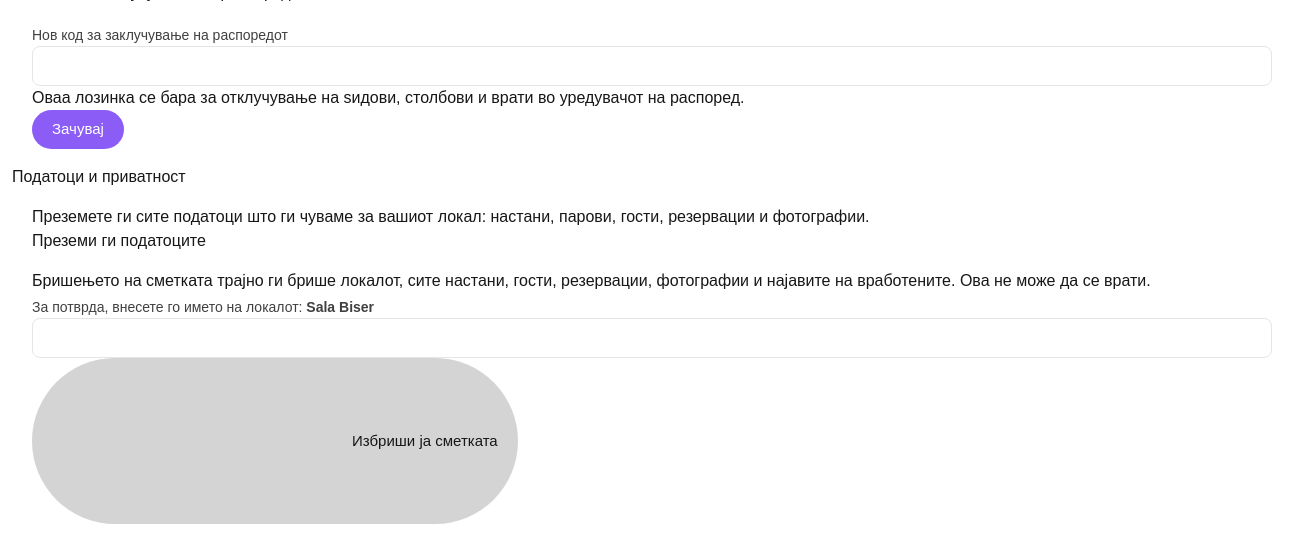
Test: Settings: delete account (DATA-006) › shows the server's error and stays on the page when deletion fails
The image size is (1292, 549).
(page scrolled)
Step 1. Type "Sala Biser" into the field labelled "За потврда, внесете го името на локалот: Sala Biser" → {"x": 652, "y": 338}, box 32,318 -> 1272,358
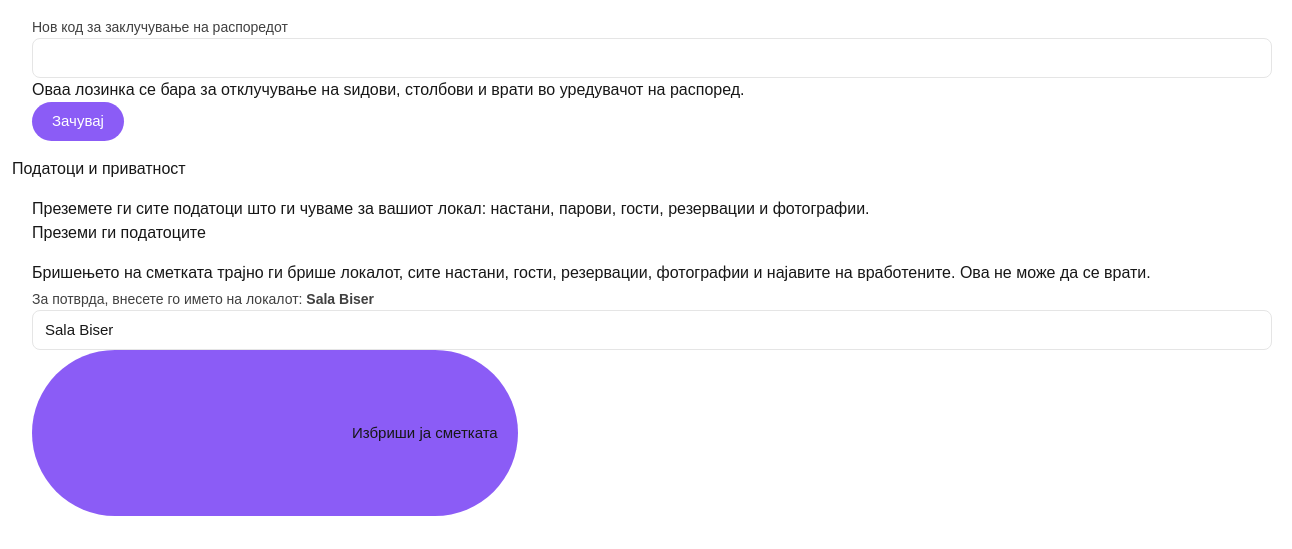
Step 2. Click the button "Избриши ја сметката" → {"x": 275, "y": 433}, box 32,350 -> 518,516
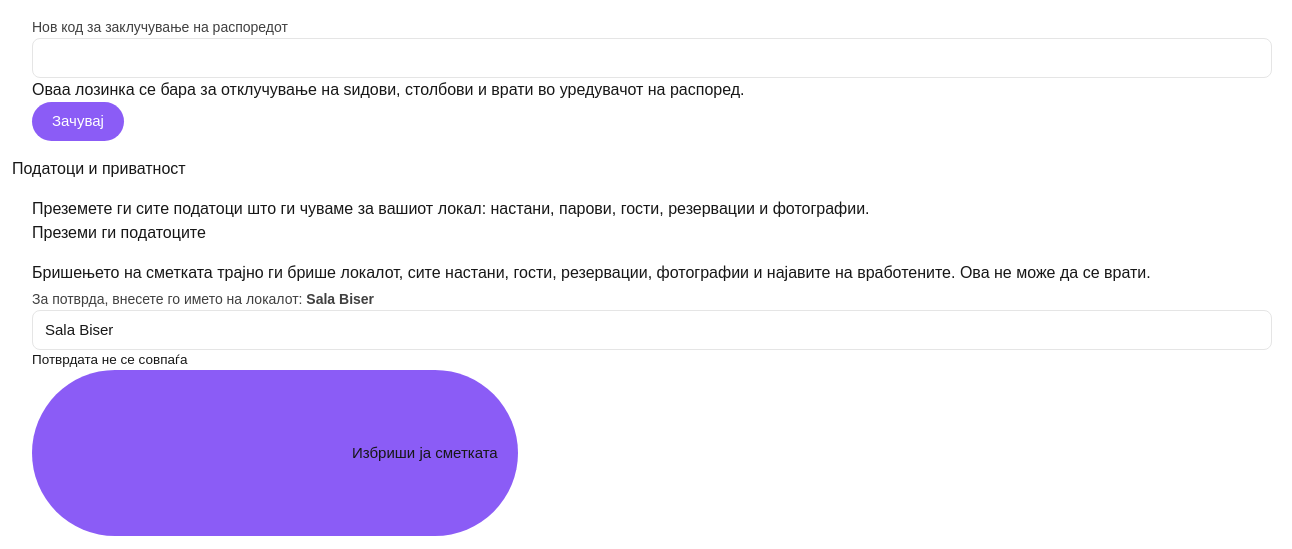
Now the text "Потврдата не се совпаѓа" is shown, box 32,352 -> 187,367
